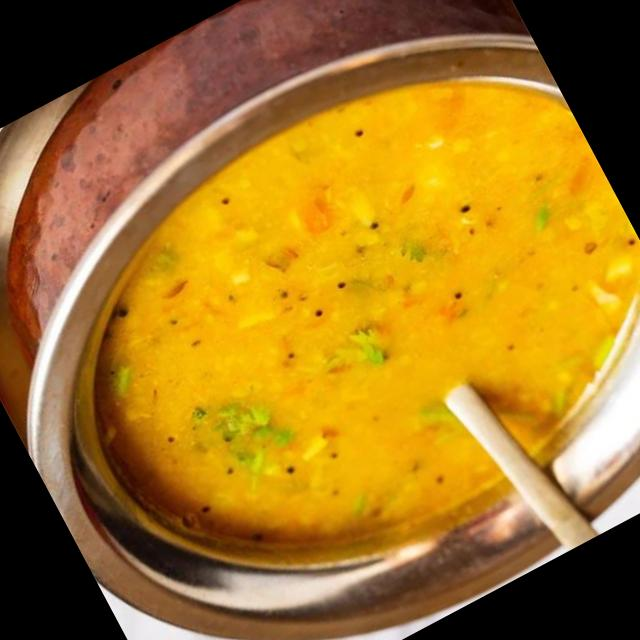dal: (98, 78, 640, 540)
